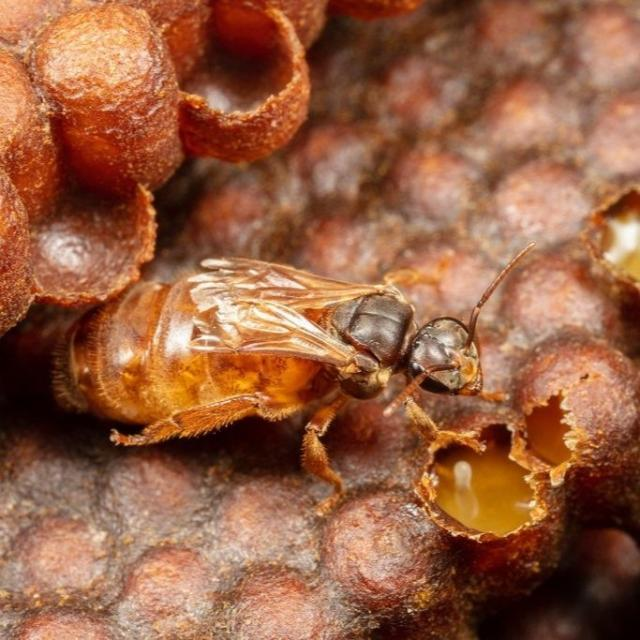Meliponula: (54, 238, 542, 470)
